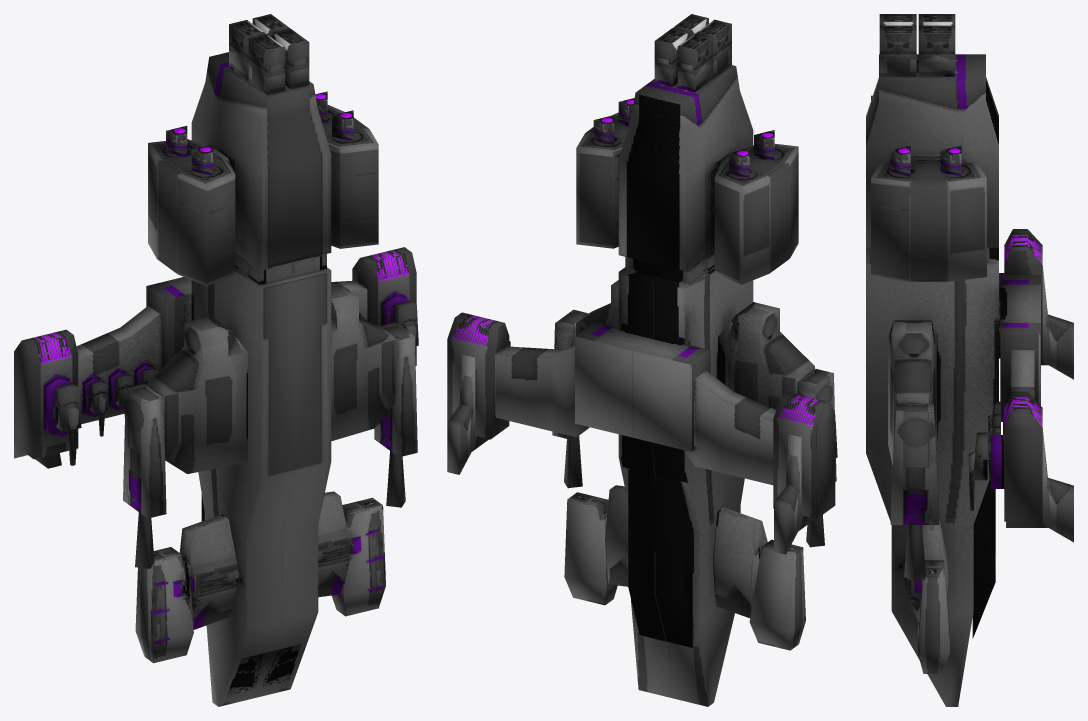
File: purple_spaceship_01.fbx
3 views of the same model, side by side, from view 1: azimuth 30°, elevation 25°; view 2: azimuth 150°, elevation 25°; view 3: azimuth 270°, elevation 25° (orthographic). The views are drawn at different scales.
Visible parts, largest first — view 1: PCruiserMod; view 2: PCruiserMod; view 3: PCruiserMod.
Part boxes in pixels (<box>): PCruiserMod: <box>14,14,418,706</box>; PCruiserMod: <box>447,14,837,706</box>; PCruiserMod: <box>866,14,1073,706</box>.
Bounding box in the file's own units: 2441 × 1165 × 4117.
